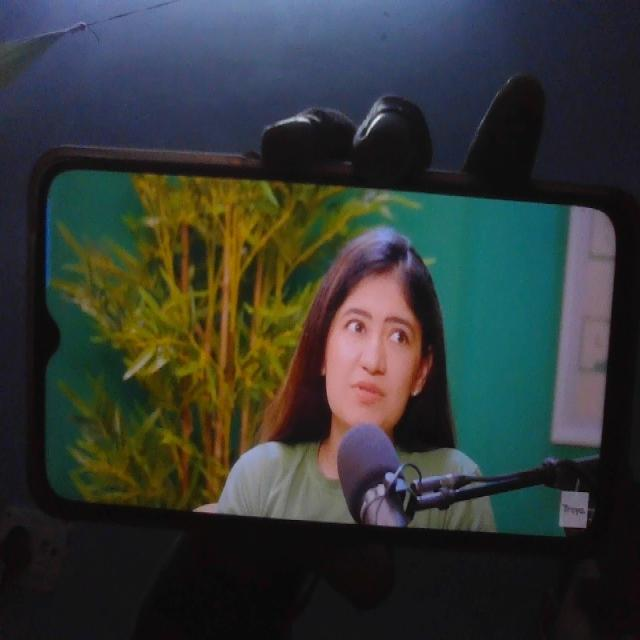fake: (320, 231, 426, 432)
